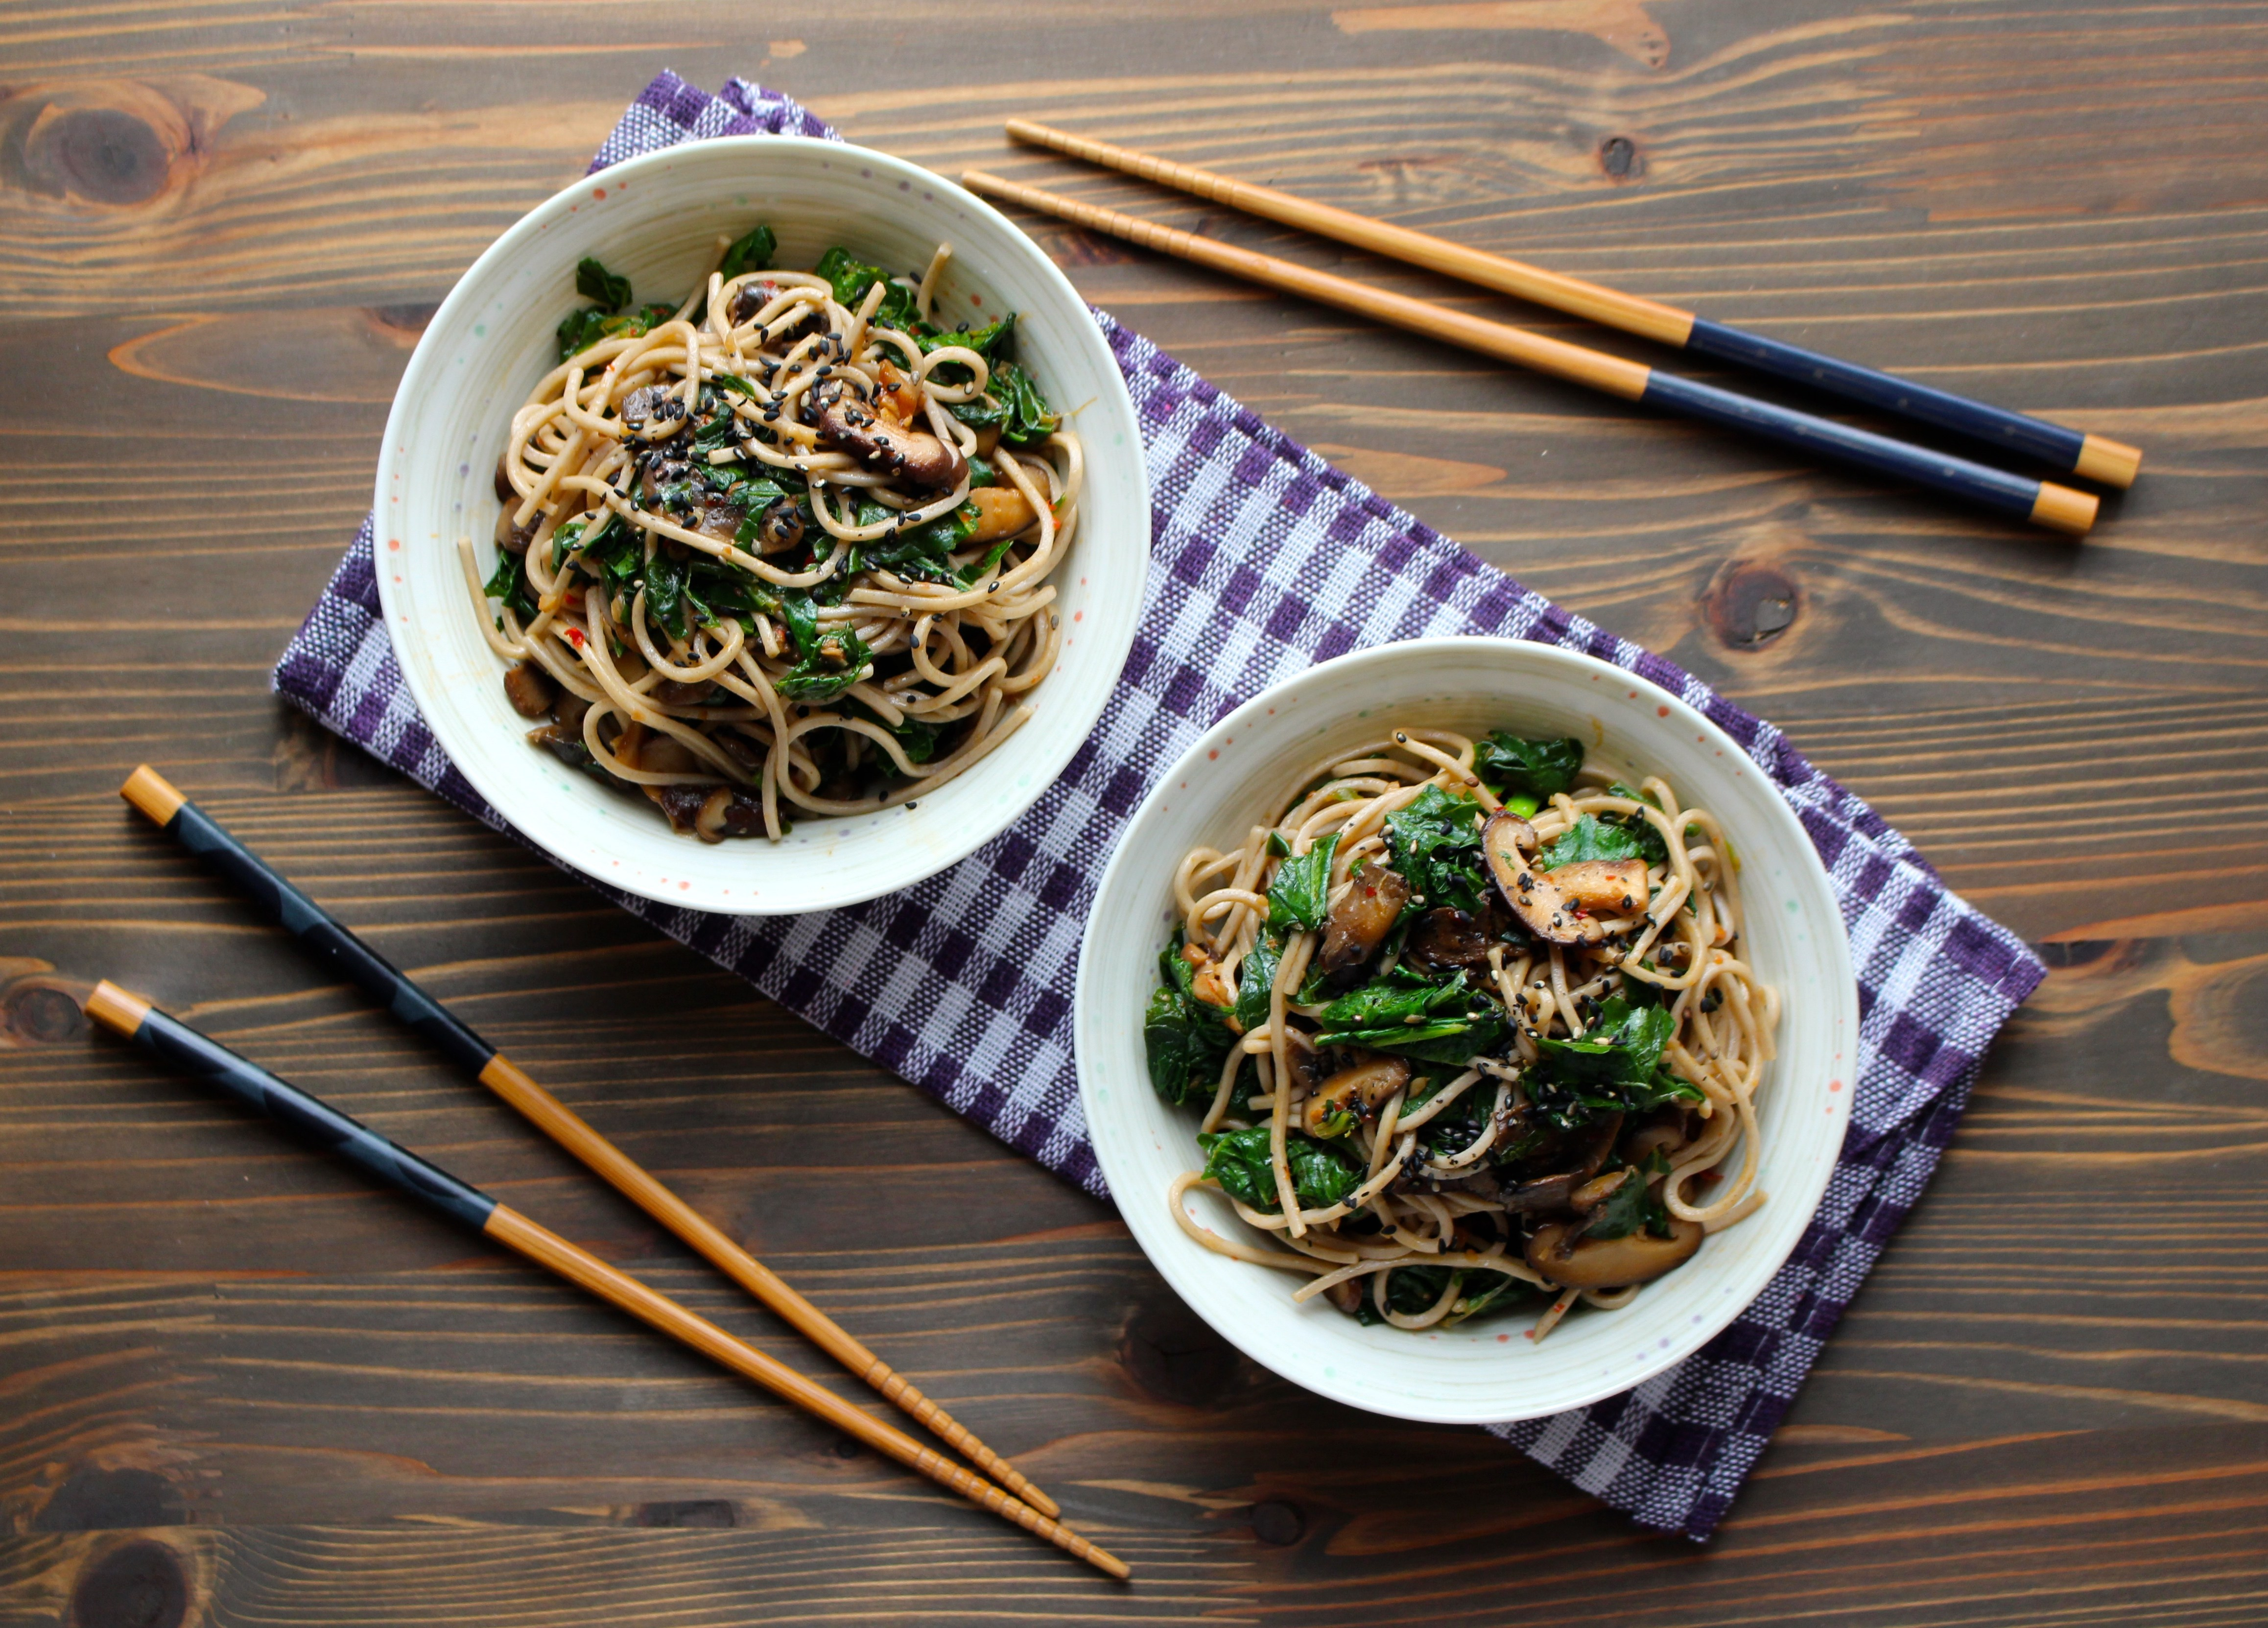Soba: (1162, 714, 1778, 1321), (475, 247, 1092, 847)
